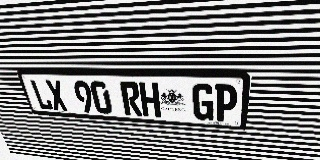0: (89, 81, 113, 114)
9: (72, 80, 96, 113)
G: (192, 83, 214, 121)
H: (139, 82, 161, 117)
L: (29, 79, 54, 110)
P: (214, 84, 238, 122)
R: (119, 82, 142, 116)
X: (44, 80, 69, 111)
